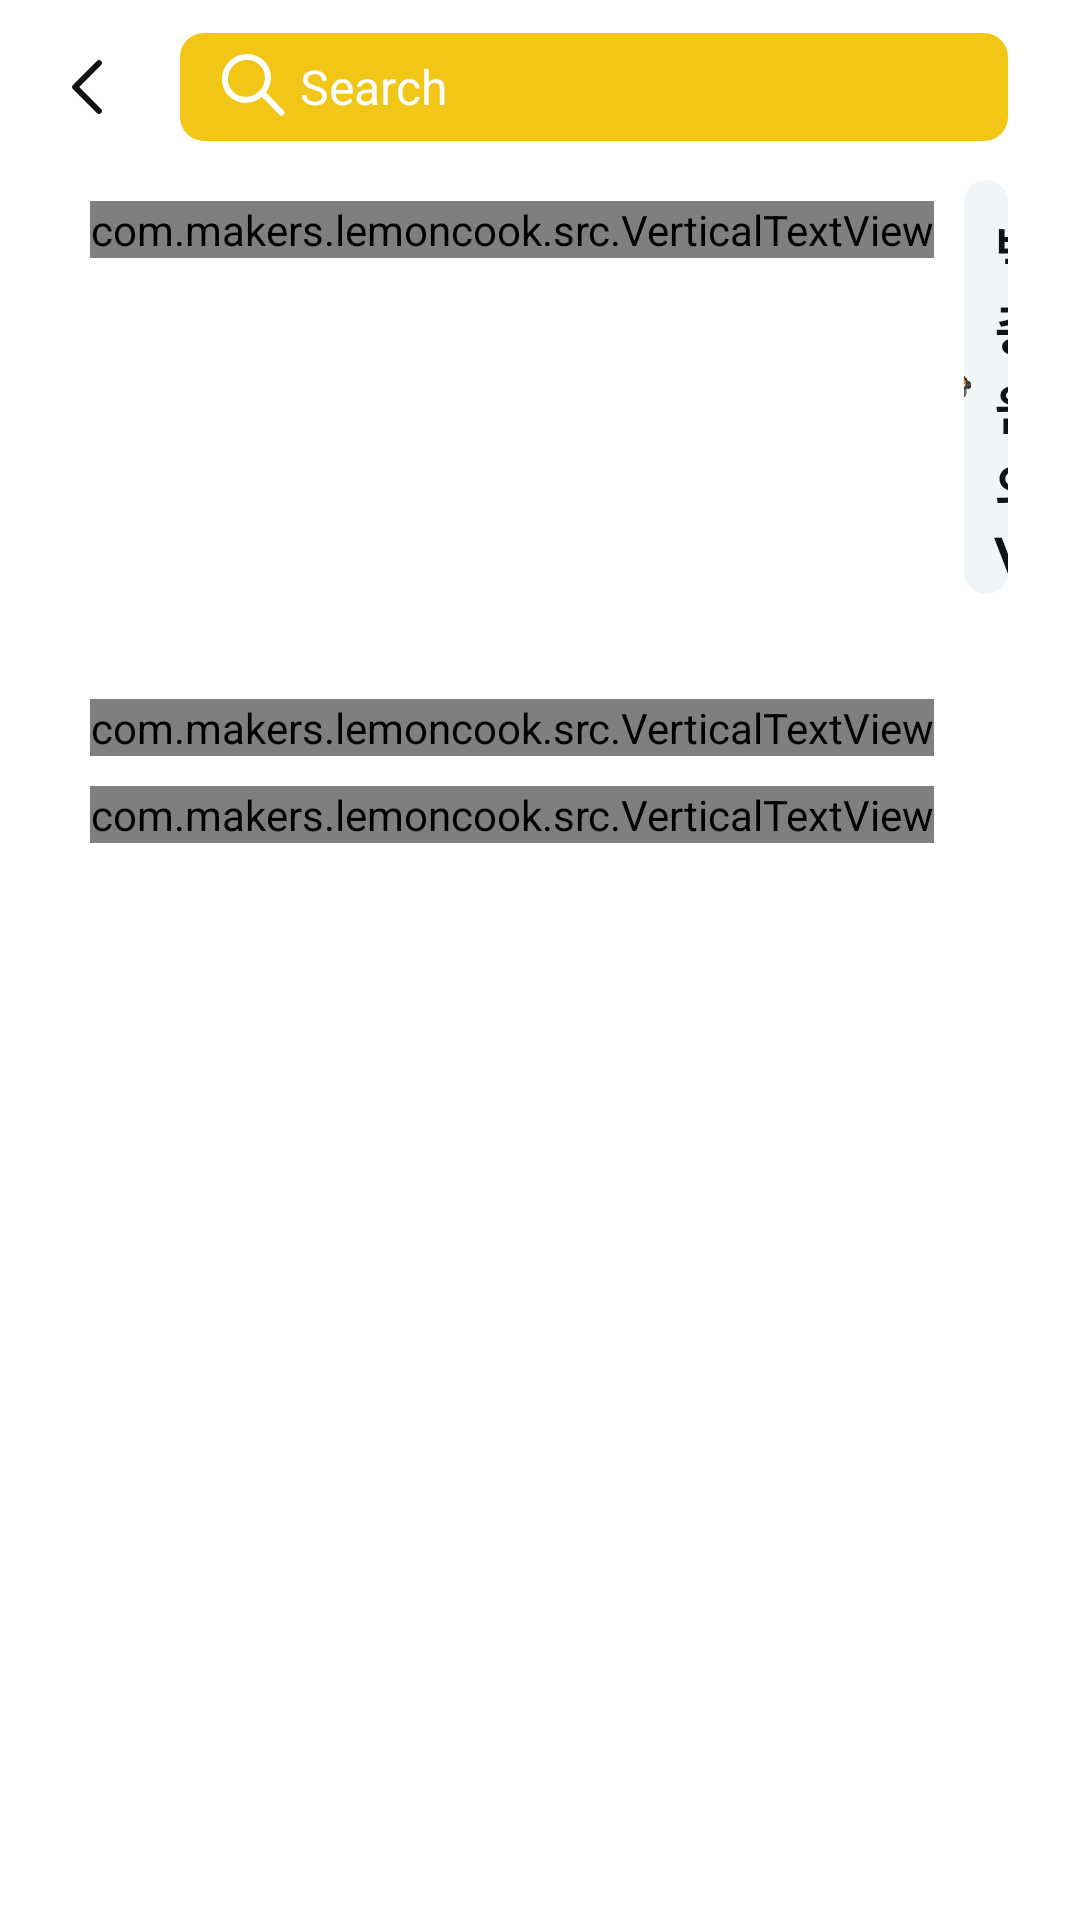

Icon bounding boxes for this 1080x1920 phone screenshot, format (x1, y1, x2, y2):
back: (72, 60, 102, 114)
